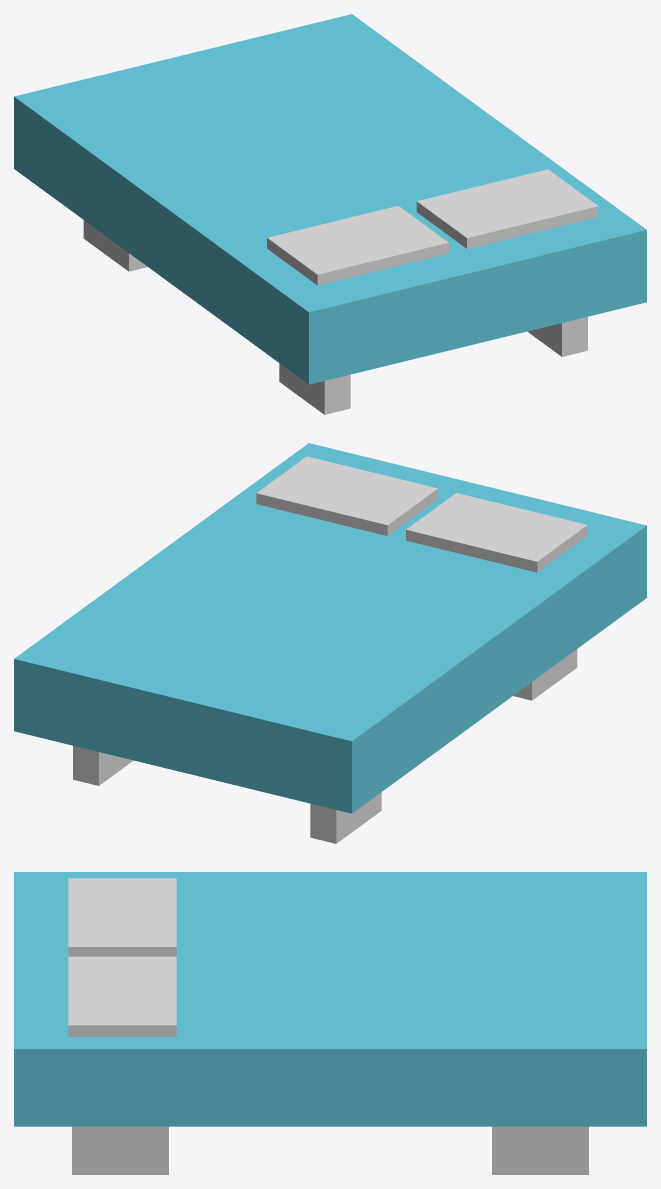
File: Bed.fbx
3 views of the same model, one above another, from view 1: azimuth 30°, elevation 25°; view 2: azimuth 150°, elevation 25°; view 3: azimuth 270°, elevation 25° (orthographic). The views are drawn at different scales.
Visible parts, largest first — view 1: Cube, Cube.002, Cube.001; view 2: Cube, Cube.002, Cube.001; view 3: Cube, Cube.002, Cube.001.
Boxes of the visible parts, x1,y1,x2,y2 form: Cube: (14,14,646,384); Cube.002: (267,169,598,285); Cube.001: (83,220,587,414); Cube: (14,443,646,813); Cube.002: (256,456,587,572); Cube.001: (73,649,577,843); Cube: (14,872,646,1126); Cube.002: (68,878,176,1036); Cube.001: (72,1126,588,1174).
Bounding box in the file's own units: 356 × 145 × 538.
